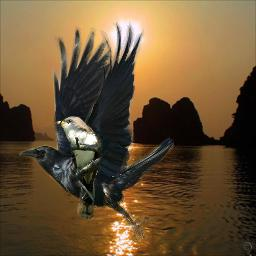Crow: (19, 20, 174, 244)
Cuckoo: (53, 116, 103, 219)
